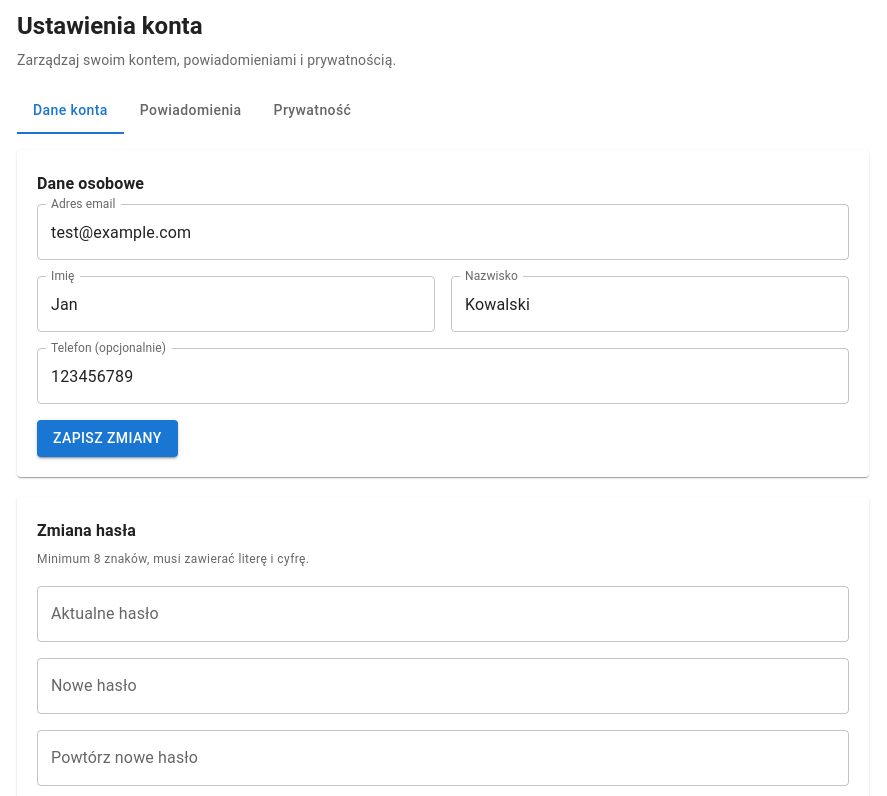
Test: ProfileSettingsPage Component › powinien poprawnie przelaczac zakladki
Expected: the heading "Dane osobowe" is shown, [37,174,144,193]
# Przełączamy na "Powiadomienia"
Click the tab "Powiadomienia". click: (191, 110)
box: [124,86,258,134]
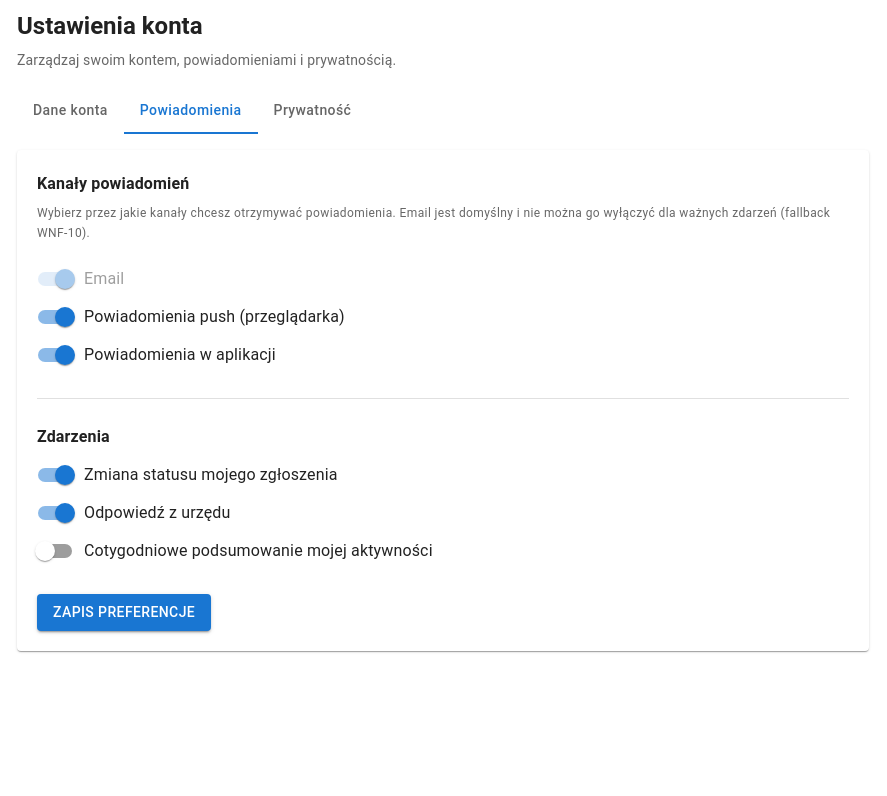
Result: the heading "Kanały powiadomień" is shown at [37,174,189,193]
# Przełączamy na "Prywatność"
Click the tab "Prywatność". click: (312, 110)
box: [258,86,367,134]
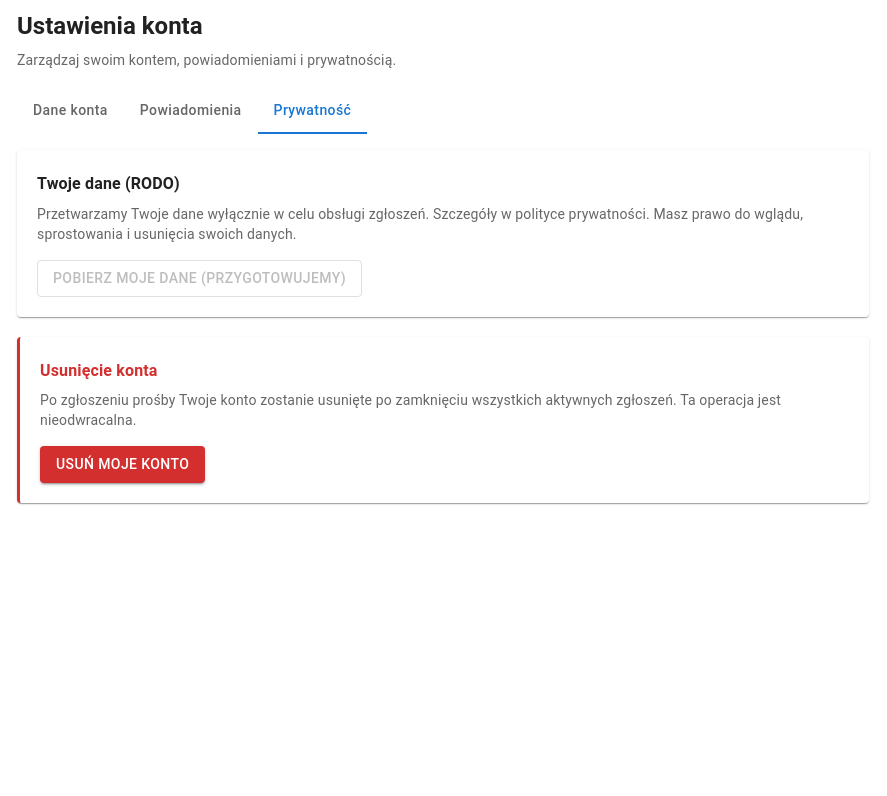
Result: the heading "Twoje dane (RODO)" is shown at [37,174,180,193]
